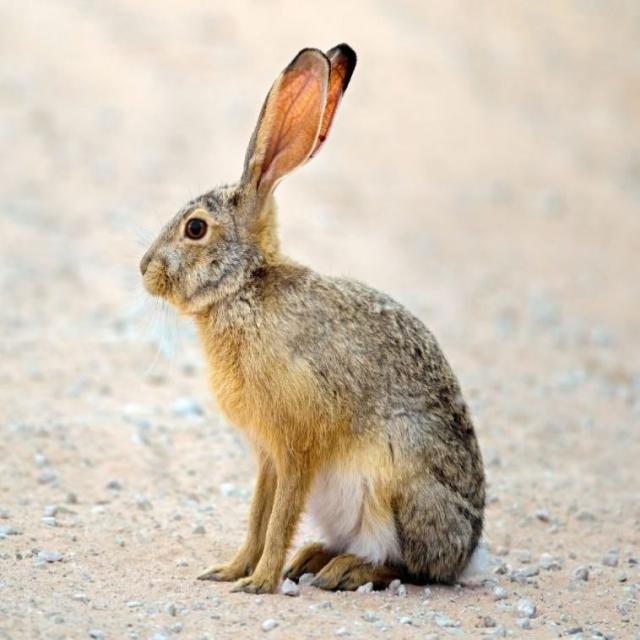Hare: (132, 39, 491, 596)
